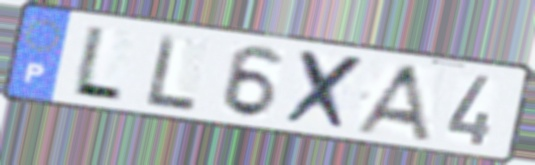4: (444, 74, 494, 147)
6: (218, 44, 286, 121)
A: (349, 61, 434, 144)
L: (67, 22, 127, 104), (144, 30, 199, 113)
X: (281, 47, 369, 135)
